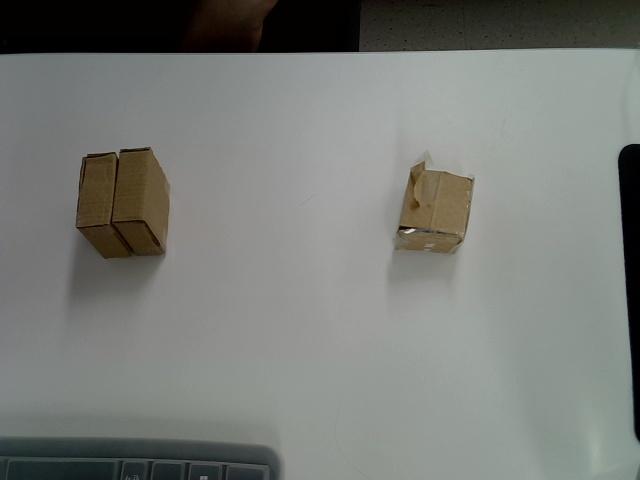defect: (394, 150, 476, 252)
normal: (112, 149, 173, 257), (75, 153, 132, 258)
